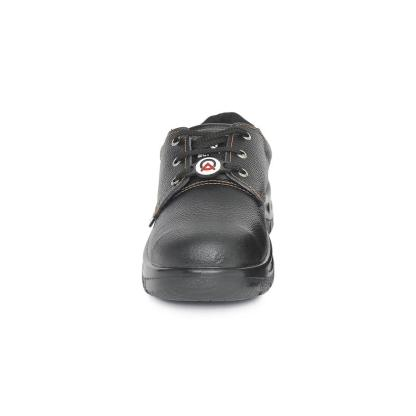bota: (136, 106, 280, 306)
